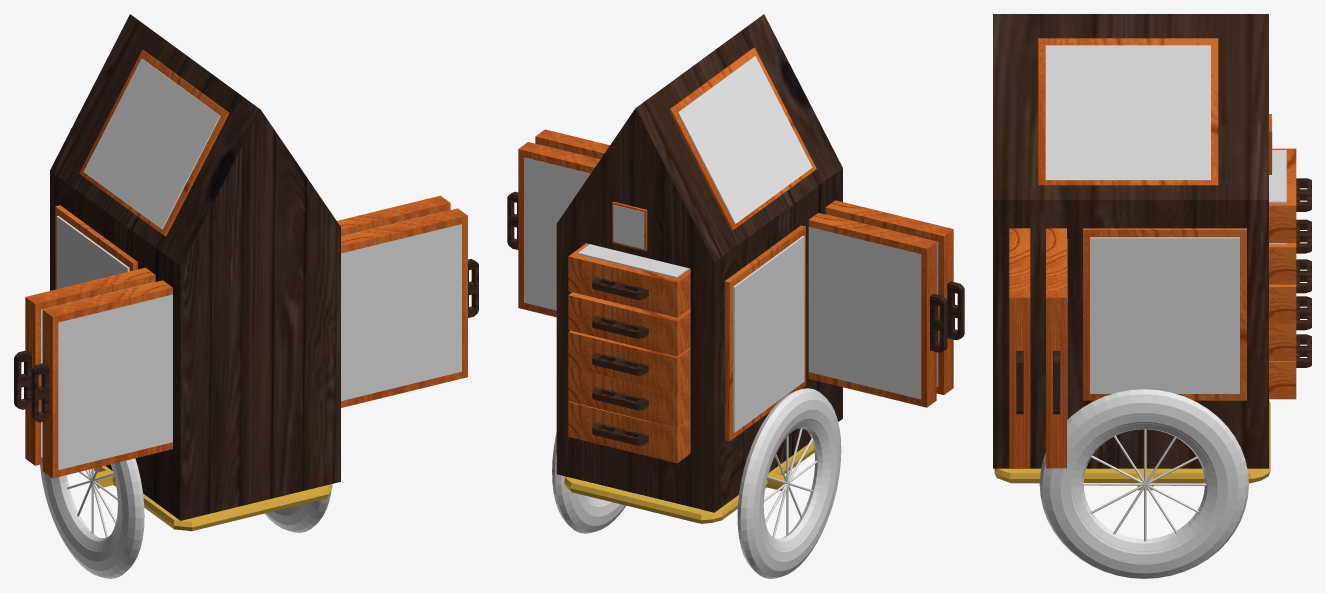
Rendered from GabineteRuedas007.fbx.
3 views of the same model, side by side, from view 1: azimuth 30°, elevation 25°; view 2: azimuth 150°, elevation 25°; view 3: azimuth 270°, elevation 25° (orthographic). The views are drawn at different scales.
Visible parts, largest first — view 1: Gabinete, CristalFrente.002, CristalFrente.005, cristalArriba.001, Marcofrente.005, Torus.004, Marcofrente.002, Marcofrente.004, CristalFrente.003, Cube.019, marco.001, Marcofrente.001 (+5 smaller); view 2: Gabinete, CristalFrente.004, cristalArriba.001, CristalFrente.003, Torus.004, CristalFrente.001, Marcofrente.004, Cube, Cube.003, Cube.006, Cube.013, Marcofrente.005 (+18 smaller); view 3: Gabinete, CristalFrente, cristalArriba, Torus, Marcofrente.002, marco, Marcofrente.001, Marcofrente, Torus.001, Cube.019, Cube, Cube.003 (+11 smaller).
Part boxes in pixels (x1=…): Gabinete: x1=50, y1=14, x2=340, y2=520; CristalFrente.002: x1=341, y1=224, x2=461, y2=400; CristalFrente.005: x1=58, y1=294, x2=172, y2=469; cristalArriba.001: x1=83, y1=58, x2=220, y2=229; Marcofrente.005: x1=42, y1=280, x2=172, y2=478; Torus.004: x1=40, y1=458, x2=144, y2=578; Marcofrente.002: x1=341, y1=208, x2=467, y2=407; Marcofrente.004: x1=25, y1=267, x2=155, y2=465; CristalFrente.003: x1=56, y1=216, x2=129, y2=288; Cube.019: x1=94, y1=466, x2=332, y2=531; marco.001: x1=79, y1=50, x2=229, y2=236; Marcofrente.001: x1=337, y1=195, x2=450, y2=236; Gabinete: x1=556, y1=14, x2=842, y2=512; CristalFrente.004: x1=808, y1=227, x2=921, y2=399; cristalArriba.001: x1=677, y1=56, x2=812, y2=223; CristalFrente.003: x1=733, y1=236, x2=804, y2=432; Torus.004: x1=737, y1=388, x2=841, y2=578; CristalFrente.001: x1=524, y1=157, x2=590, y2=310; Marcofrente.004: x1=808, y1=213, x2=936, y2=407; Cube: x1=568, y1=243, x2=690, y2=317; Cube.003: x1=568, y1=292, x2=690, y2=356; Cube.006: x1=568, y1=330, x2=690, y2=393; Cube.013: x1=568, y1=401, x2=690, y2=463; Marcofrente.005: x1=825, y1=200, x2=953, y2=394; Gabinete: x1=993, y1=14, x2=1268, y2=468; CristalFrente: x1=1090, y1=237, x2=1239, y2=393; cristalArriba: x1=1045, y1=45, x2=1210, y2=180; Torus: x1=1039, y1=389, x2=1248, y2=578; Marcofrente.002: x1=1009, y1=228, x2=1030, y2=468; marco: x1=1038, y1=38, x2=1218, y2=185; Marcofrente.001: x1=1046, y1=228, x2=1066, y2=468; Marcofrente: x1=1083, y1=228, x2=1246, y2=400; Torus.001: x1=1073, y1=423, x2=1215, y2=551; Cube.019: x1=994, y1=400, x2=1270, y2=490; Cube: x1=1269, y1=148, x2=1296, y2=242; Cube.003: x1=1269, y1=243, x2=1296, y2=284.
Bounding box in the file's own units: 1224 × 1293 × 721.
